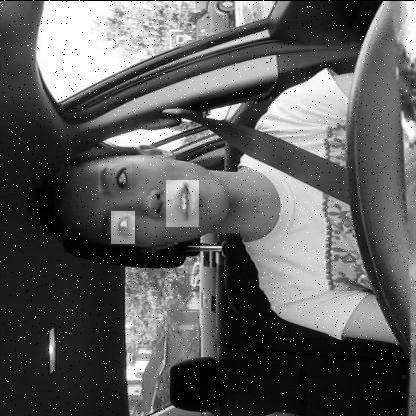seatbelt: (30, 124, 349, 286)
